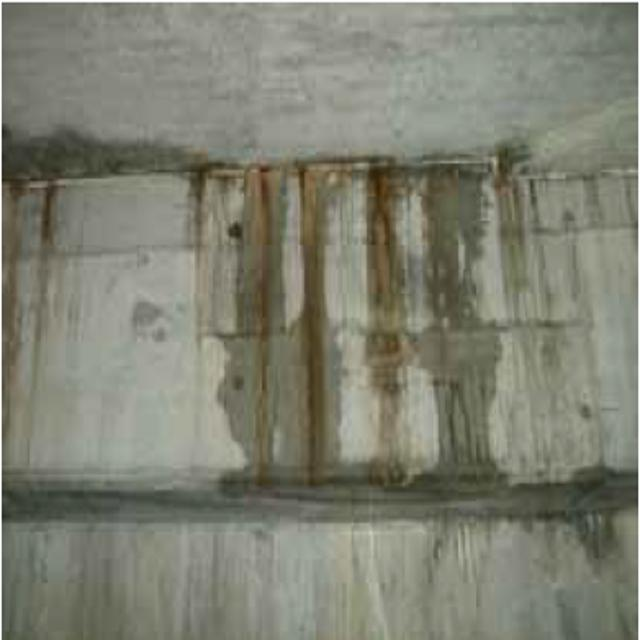leakage: (218, 147, 558, 510)
